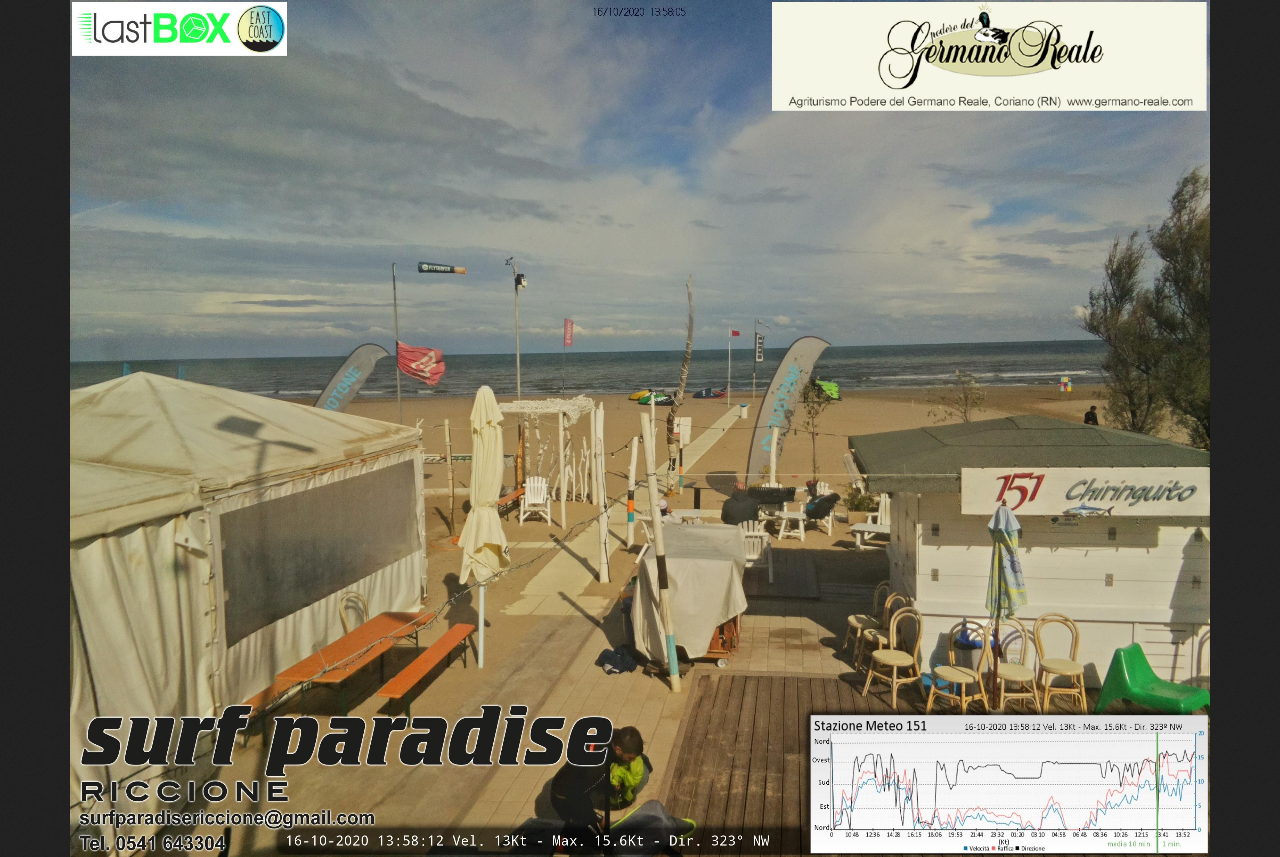yes: (394, 332, 446, 389), (561, 319, 574, 345), (729, 326, 737, 339)
